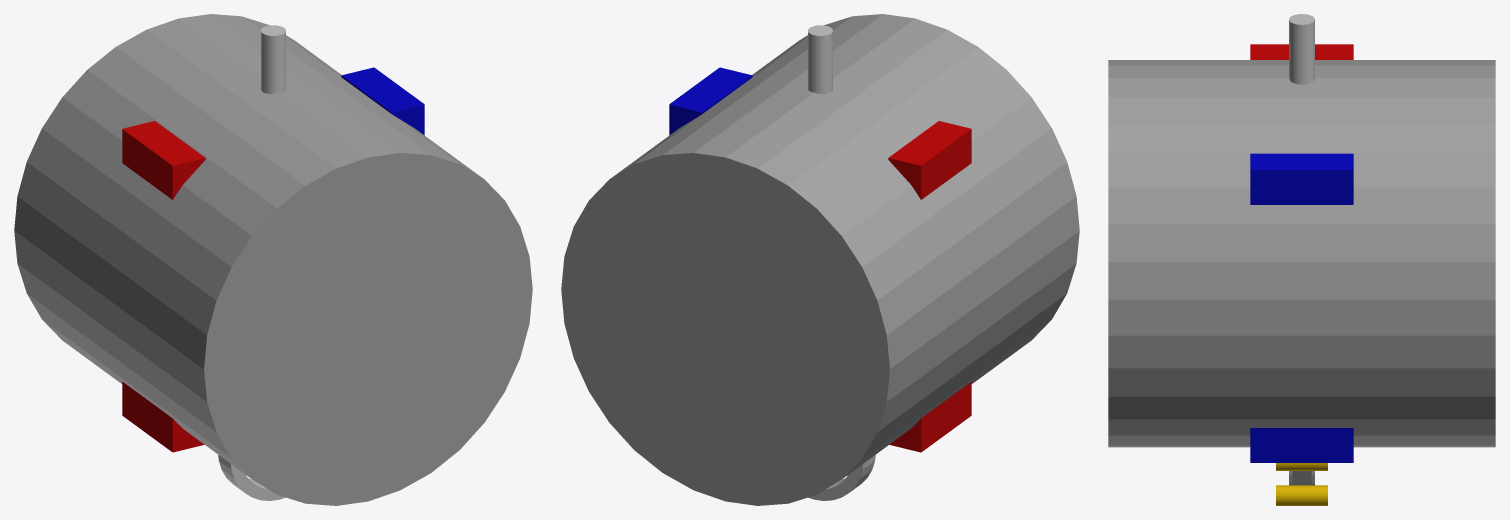
The model's file is generator.glb.
3 views of the same model, side by side, from view 1: azimuth 30°, elevation 25°; view 2: azimuth 150°, elevation 25°; view 3: azimuth 270°, elevation 25° (orthographic). The views are drawn at different scales.
Visible parts, largest first — view 1: world; view 2: world; view 3: world.
Boxes of the visible parts, bbox=[...] form: world: bbox=[14, 14, 532, 505]; world: bbox=[561, 14, 1079, 505]; world: bbox=[1108, 14, 1495, 505].
Bounding box in the file's own units: 3 × 4.05 × 3.
